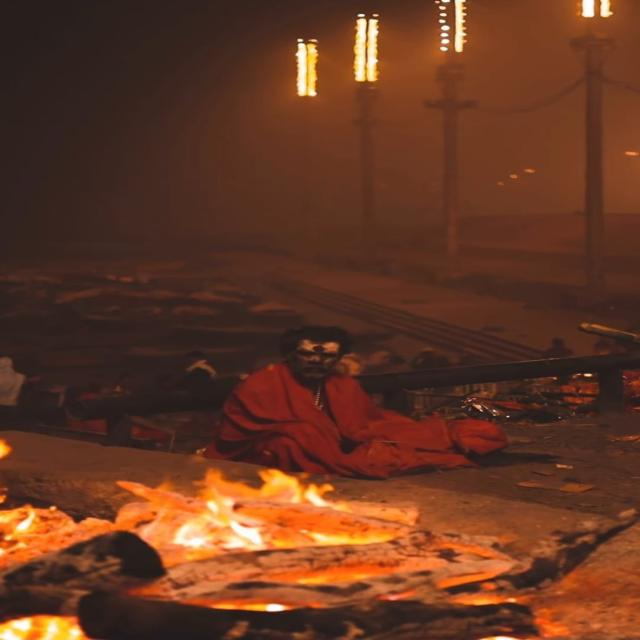fire: (171, 466, 345, 550), (0, 614, 87, 640), (0, 504, 35, 556), (187, 597, 288, 612)
